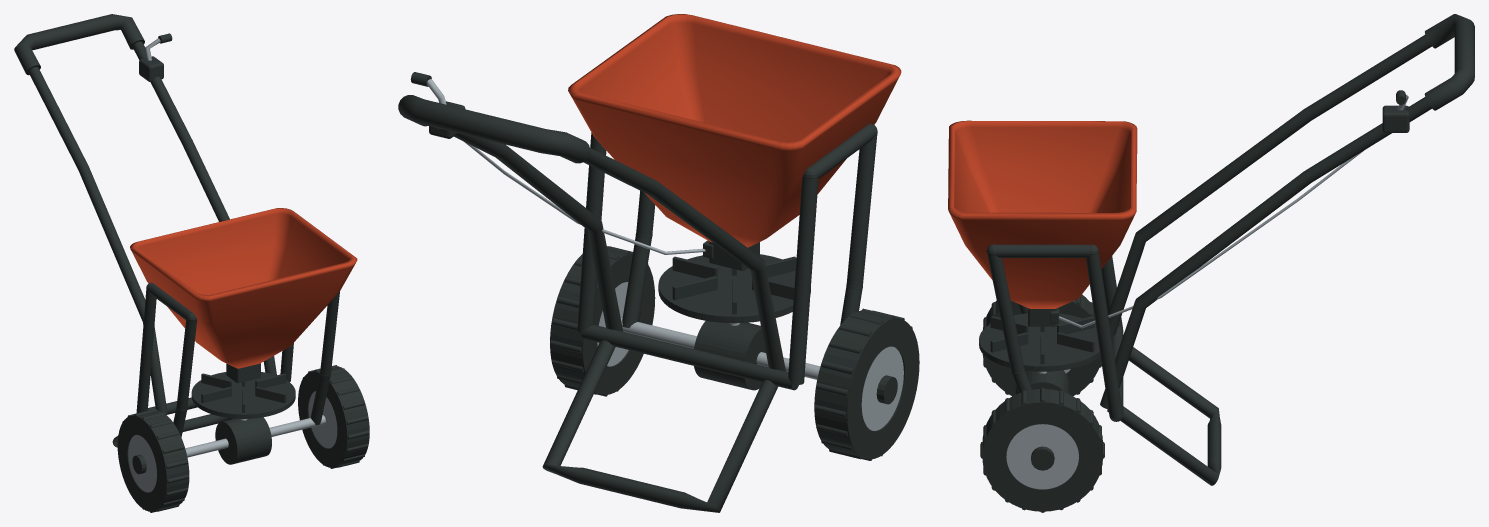
The model's file is A-NEW-20261026-BROADCAST-SPREADER-001_LOD1_R6.fbx.
The picture shows the model from 3 angles, left to right: view 1: azimuth 30°, elevation 25°; view 2: azimuth 150°, elevation 25°; view 3: azimuth 270°, elevation 25°; orthographic projection. The views are drawn at different scales.
Visible parts, largest first — view 1: open tapered hopper and rolled lip, pneumatic style tire -1, long handle rail -1, pneumatic style tire 1, horizontal spreading plate, padded U grip, long handle rail 1, sealed central gearbox, side hopper support -1 segment 3, side hopper support -1 segment 1, wheel center hub -1, common wheel axle (+7 smaller); view 2: open tapered hopper and rolled lip, pneumatic style tire -1, rear parking stand, pneumatic style tire 1, long handle rail -1, padded U grip, horizontal spreading plate, long handle rail 1, lower support crossbar, side hopper support -1 segment 3, sealed central gearbox, side hopper support -1 segment 1 (+11 smaller); view 3: open tapered hopper and rolled lip, pneumatic style tire 1, long handle rail -1, long handle rail 1, rear parking stand, horizontal spreading plate, wheel center hub 1, padded U grip, side hopper support 1 segment 3, pneumatic style tire -1, side hopper support 1 segment 1, side hopper support 1 segment 2 (+3 smaller).
Boxes of the visible parts, x1,y1,x2,y2 form: open tapered hopper and rolled lip: (130, 208, 357, 368); pneumatic style tire -1: (117, 410, 189, 511); long handle rail -1: (28, 66, 167, 414); pneumatic style tire 1: (298, 366, 369, 467); horizontal spreading plate: (191, 372, 295, 418); padded U grip: (14, 14, 144, 75); long handle rail 1: (132, 41, 276, 375); sealed central gearbox: (215, 417, 271, 464); side hopper support -1 segment 3: (136, 290, 156, 412); side hopper support -1 segment 1: (176, 319, 197, 410); wheel center hub -1: (128, 435, 156, 492); common wheel axle: (185, 415, 325, 457); open tapered hopper and rolled lip: (568, 14, 901, 247); pneumatic style tire -1: (814, 310, 919, 459); rear parking stand: (542, 340, 778, 512); pneumatic style tire 1: (550, 249, 655, 394); long handle rail -1: (583, 148, 785, 371); padded U grip: (398, 95, 590, 163); horizontal spreading plate: (658, 254, 810, 323); long handle rail 1: (436, 127, 623, 331); lower support crossbar: (581, 324, 798, 390); side hopper support -1 segment 3: (788, 177, 818, 384); sealed central gearbox: (694, 321, 765, 390); side hopper support -1 segment 1: (846, 134, 877, 286); open tapered hopper and rolled lip: (948, 120, 1137, 308); pneumatic style tire 1: (982, 389, 1102, 511); long handle rail -1: (1108, 35, 1431, 336); long handle rail 1: (1100, 97, 1431, 408); rear parking stand: (1107, 347, 1221, 485); horizontal spreading plate: (979, 313, 1100, 371); wheel center hub 1: (1006, 424, 1078, 489); padded U grip: (1424, 14, 1474, 110); side hopper support 1 segment 3: (1086, 252, 1122, 418); pneumatic style tire -1: (982, 294, 1101, 396); side hopper support 1 segment 1: (987, 255, 1024, 373); side hopper support 1 segment 2: (995, 244, 1090, 257).
Size of the model in its own units: 61.4 by 92.09 by 107.
